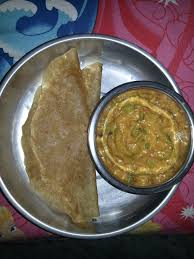curry: (100, 80, 194, 196)
roti: (21, 43, 102, 229)
